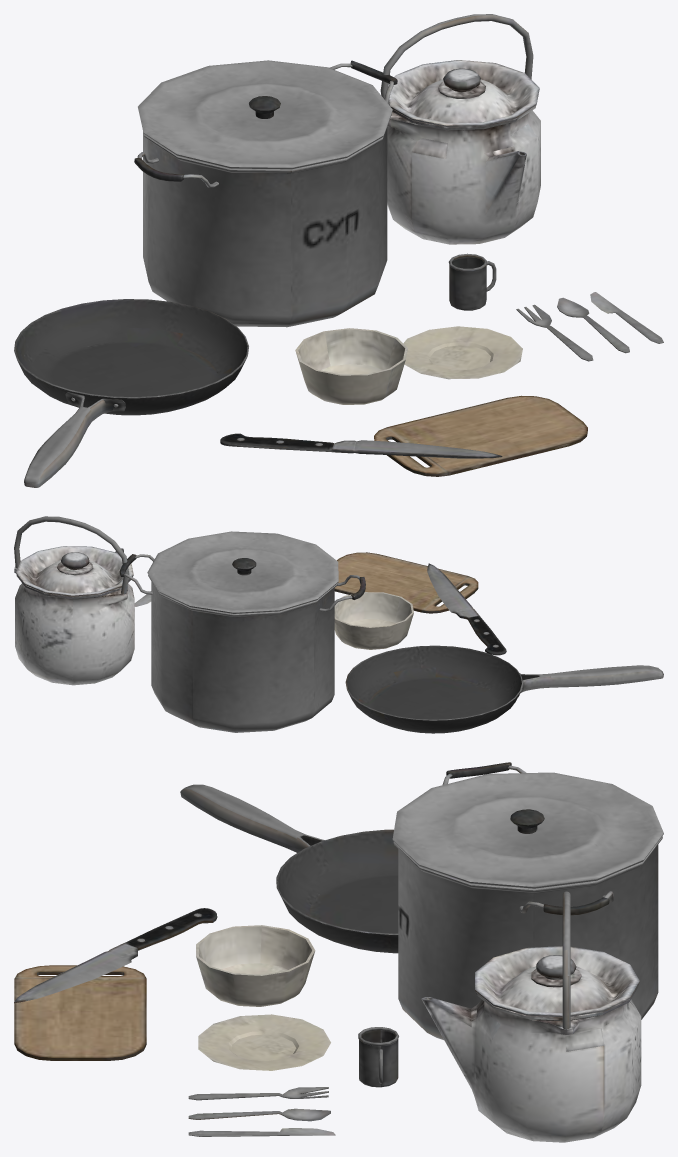
The model's file is kitchen.glb.
The picture shows the model from 3 angles, top to bottom: view 1: azimuth 30°, elevation 25°; view 2: azimuth 150°, elevation 25°; view 3: azimuth 270°, elevation 25°; orthographic projection. The views are drawn at different scales.
Visible parts, largest first — view 1: Cylinder.002, Cylinder.003, Cylinder, Cylinder.007, Cube.006, Cylinder.008, Cylinder.009, Cylinder.010, Plane, Cube, Cylinder.011, Vert.002 (+5 smaller); view 2: Cylinder.002, Cylinder, Cylinder.003, Cylinder.007, Cylinder.008, Cube.006, Cylinder.009, Plane, Cube, Vert.002, Cube.001, Vert (+1 smaller); view 3: Cylinder.002, Cylinder.003, Cylinder.007, Cylinder, Cube.006, Cylinder.008, Cylinder.009, Cylinder.010, Plane, Cube, Cylinder.011, Cube.001 (+6 smaller).
Boxes of the visible parts, x1,y1,x2,y2 form: Cylinder.002: (143, 113, 391, 327); Cylinder.003: (138, 60, 392, 169); Cylinder: (14, 299, 248, 415); Cylinder.007: (387, 105, 540, 244); Cube.006: (374, 395, 587, 476); Cylinder.008: (388, 60, 539, 126); Cylinder.009: (295, 328, 407, 404); Cylinder.010: (403, 326, 522, 379); Plane: (24, 392, 125, 487); Cube: (228, 440, 502, 458); Cylinder.011: (449, 256, 486, 310); Vert.002: (380, 14, 533, 115); Cylinder.002: (148, 575, 337, 732); Cylinder: (345, 645, 522, 733); Cylinder.003: (147, 531, 338, 613); Cylinder.007: (14, 548, 134, 685); Cylinder.008: (16, 546, 133, 596); Cube.006: (334, 552, 478, 613); Cylinder.009: (334, 592, 413, 649); Plane: (518, 665, 663, 697); Cube: (427, 563, 479, 619); Vert.002: (14, 516, 129, 594); Cube.001: (467, 616, 506, 655); Vert: (124, 554, 359, 611); Cylinder.002: (393, 836, 662, 1039); Cylinder.003: (392, 772, 663, 888); Cylinder.007: (421, 984, 641, 1142); Cylinder: (276, 829, 398, 953); Cube.006: (14, 965, 146, 1060); Cylinder.008: (475, 946, 639, 1017); Cylinder.009: (196, 925, 315, 1006); Cylinder.010: (198, 1014, 330, 1070); Plane: (180, 784, 324, 852); Cube: (14, 943, 137, 1003); Cylinder.011: (359, 1030, 398, 1087); Cube.001: (125, 908, 217, 950).
Size of the model in its own units: 16.08 by 4.61 by 12.42.
1 material, 1 textured.
